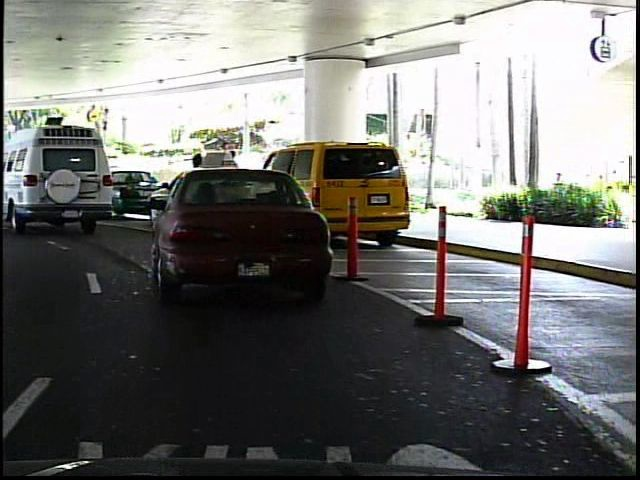person: (185, 147, 210, 212), (222, 145, 246, 211), (61, 154, 83, 197), (5, 158, 22, 198)
